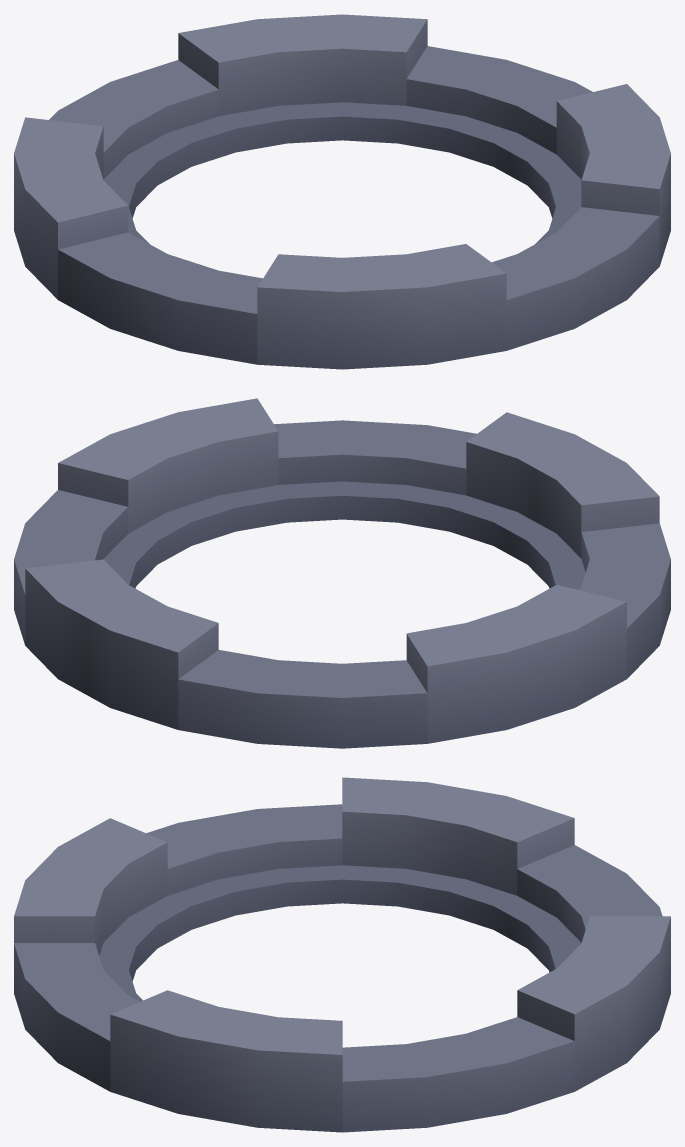
File: tower-top.fbx
3 renders of one model, top to bottom at view 1: azimuth 30°, elevation 25°; view 2: azimuth 150°, elevation 25°; view 3: azimuth 270°, elevation 25°, orthographic.
Visible parts, largest first — view 1: tower-top; view 2: tower-top; view 3: tower-top.
Part boxes in pixels (x1,y1,x2,y2): tower-top: (14, 14, 670, 369); tower-top: (14, 398, 670, 748); tower-top: (14, 777, 670, 1132).
Size of the model in its own units: 1 by 1 by 0.13.
